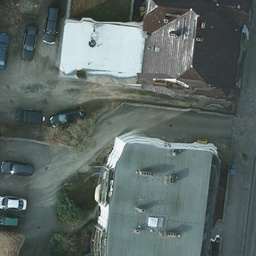car: (41, 5, 60, 46), (51, 106, 83, 126), (19, 26, 37, 60), (14, 106, 46, 123), (1, 162, 36, 177), (1, 195, 26, 211), (1, 34, 10, 70), (1, 216, 19, 229)
